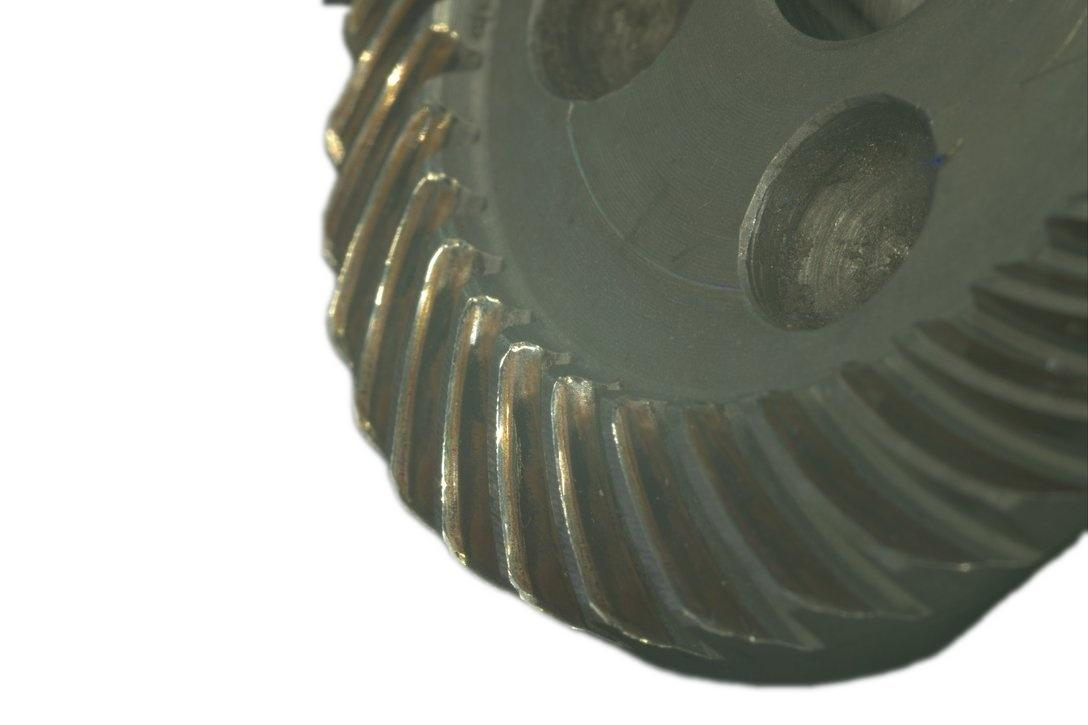defect: (755, 386, 997, 578), (678, 393, 834, 616), (326, 107, 444, 347), (353, 173, 446, 432), (322, 32, 433, 246), (605, 398, 710, 621), (386, 239, 464, 505), (318, 0, 413, 166), (548, 375, 613, 615), (490, 340, 541, 601), (437, 298, 484, 564)
